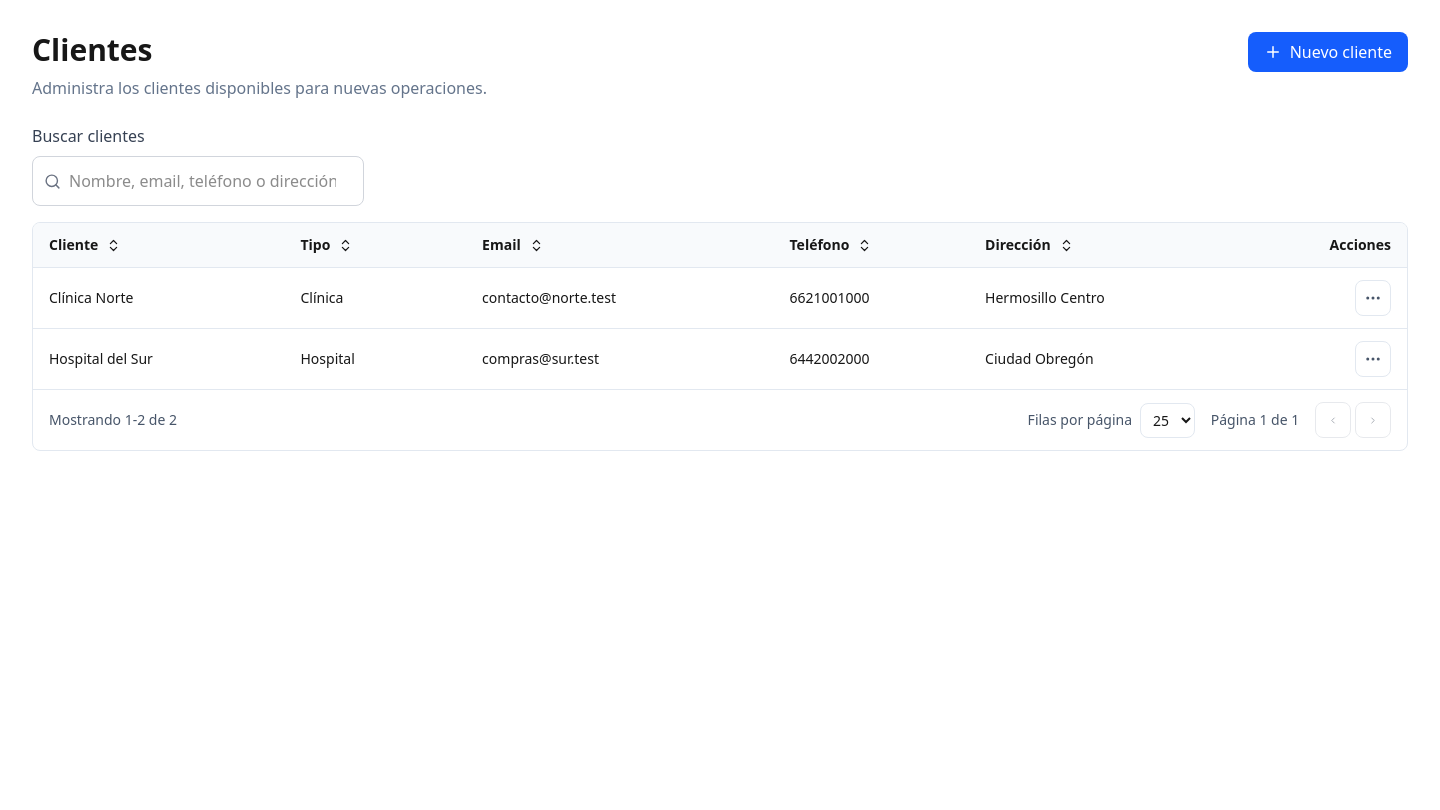
Test case: CustomersPage › desactiva con lenguaje no destructivo y refresca la lista activa
This screenshot has width=1440, height=810.
Expected: the text "Clínica Norte" is shown, [33,268,284,328]
Click the button named "Acciones del cliente Clínica Norte" at (1373, 298), box [1355,280,1391,316]
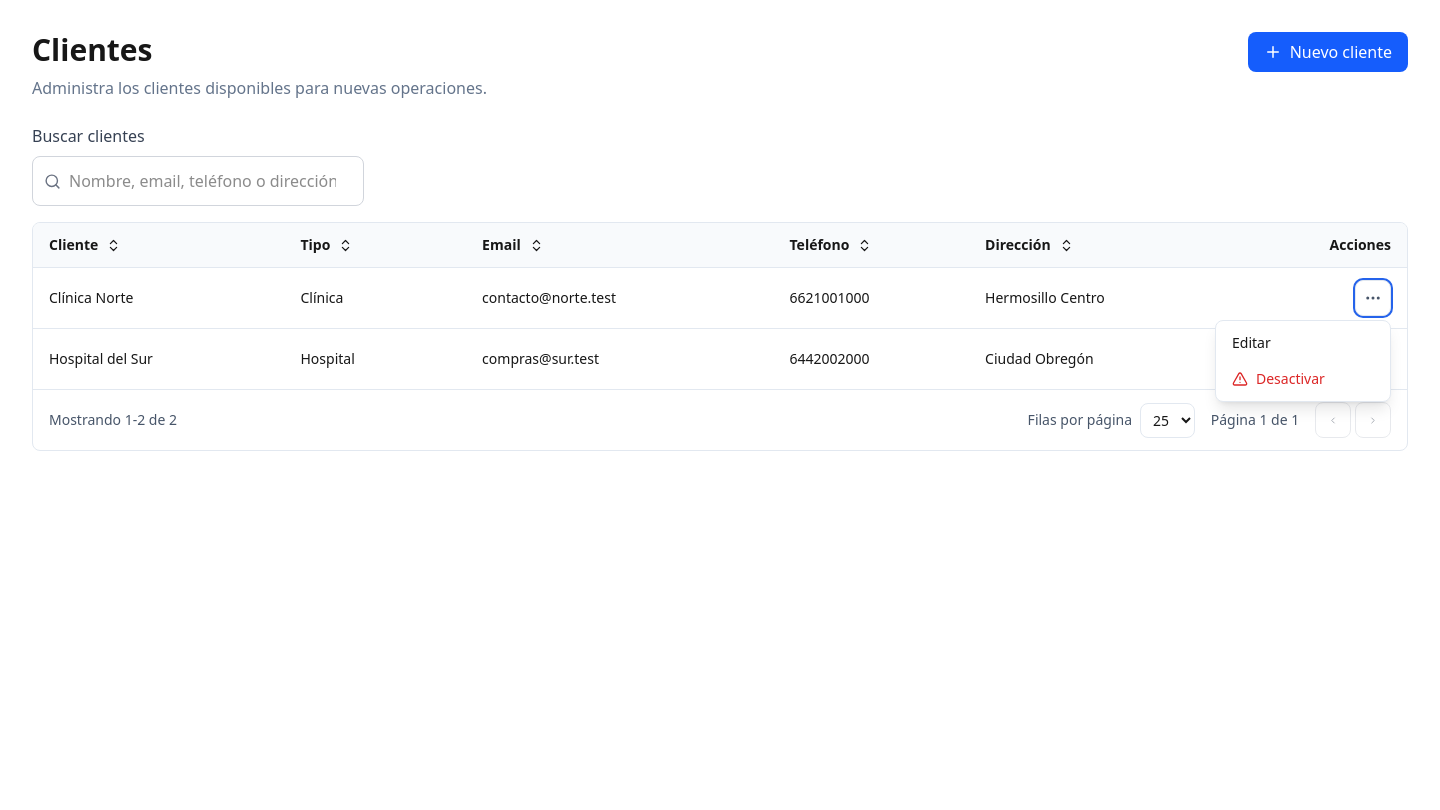
Click the menu item with aria-label "Acción destructiva: Desactivar" at (1303, 379), box [1220,361,1386,397]
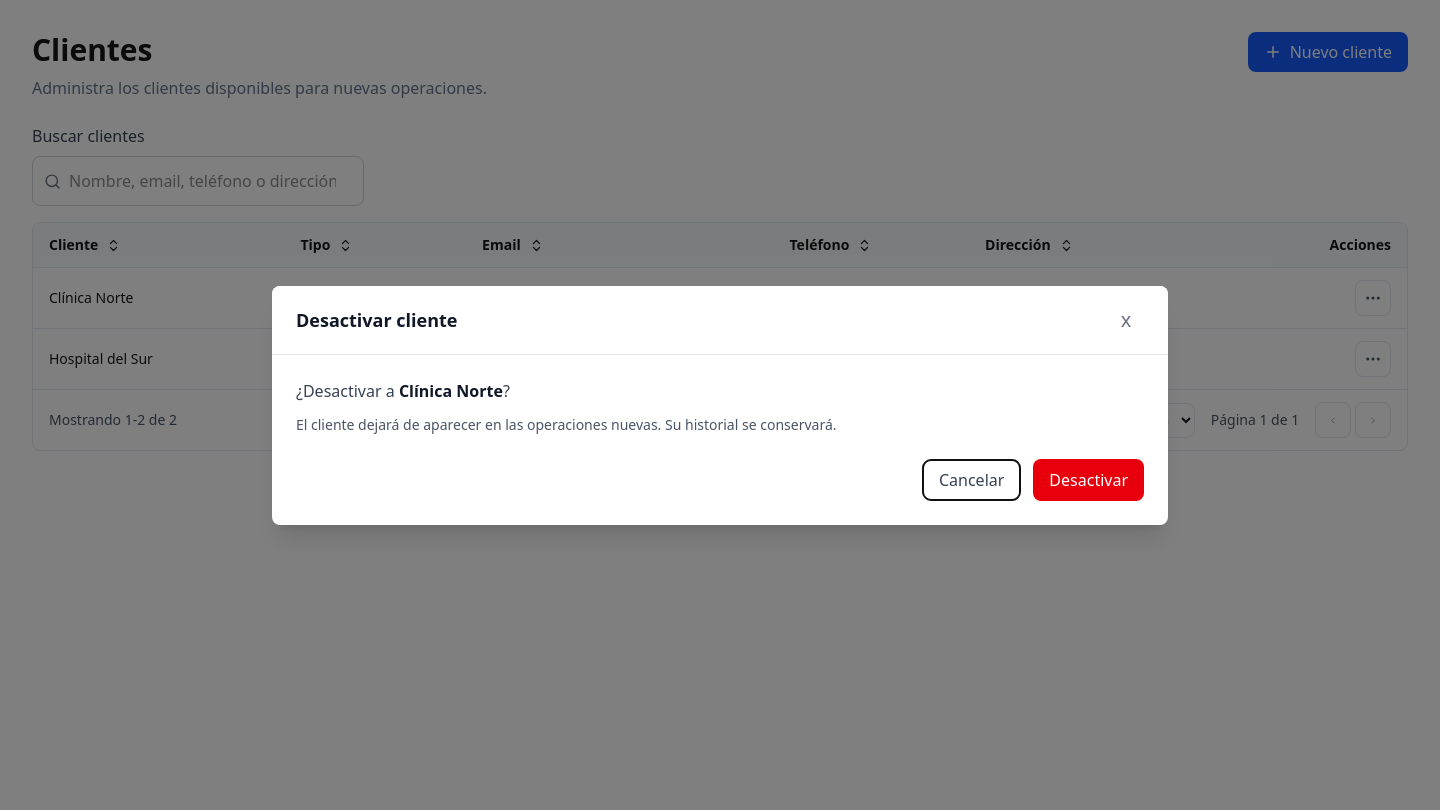
Result: the heading "Desactivar cliente" is shown at [296,306,474,334]
Result: the text "El cliente dejará de aparecer en las operaciones nuevas. Su historial se conservará." is shown at [296,414,836,434]
Click the button "Desactivar" at (1089, 480), box [1033,458,1144,500]
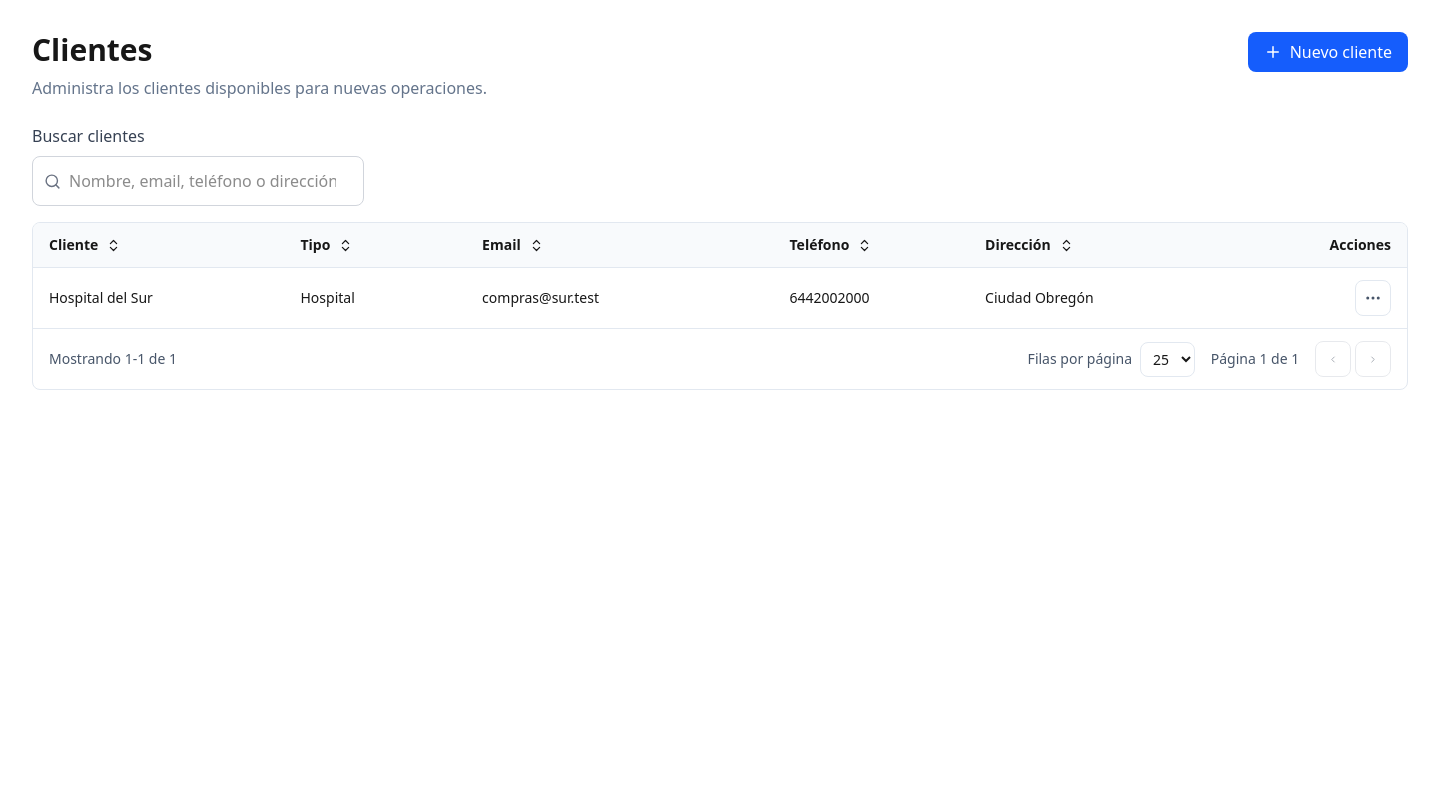
Expected: the text "Hospital del Sur" is shown, [33,268,284,328]
Result: the text "Clínica Norte" is gone
